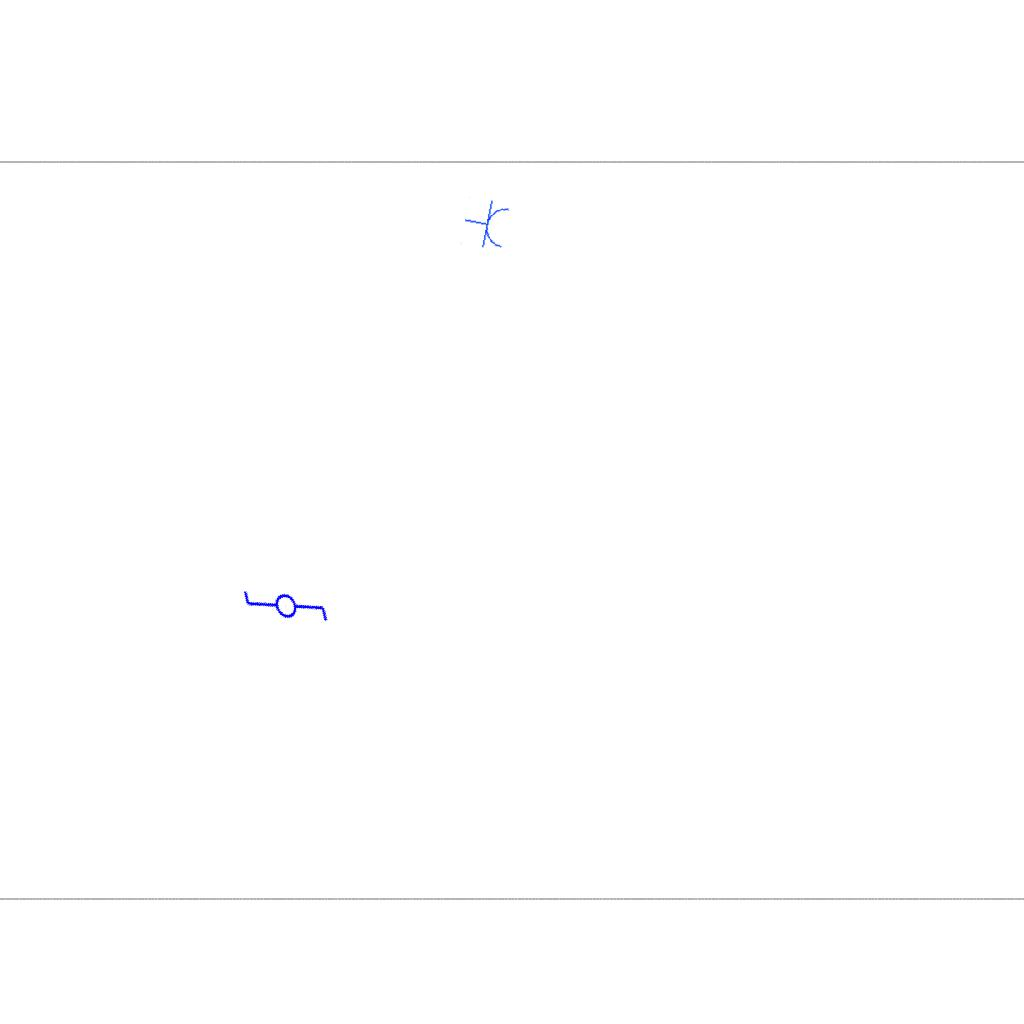Schukosteckdose_einfach: (460, 195, 512, 254)
Wechselschalter: (236, 558, 338, 662)
